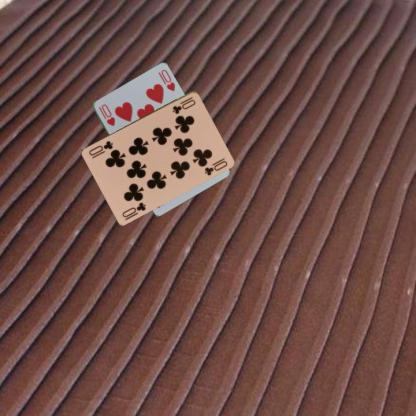10c: (120, 200, 147, 222), (170, 94, 197, 115)
10h: (96, 101, 117, 127)
